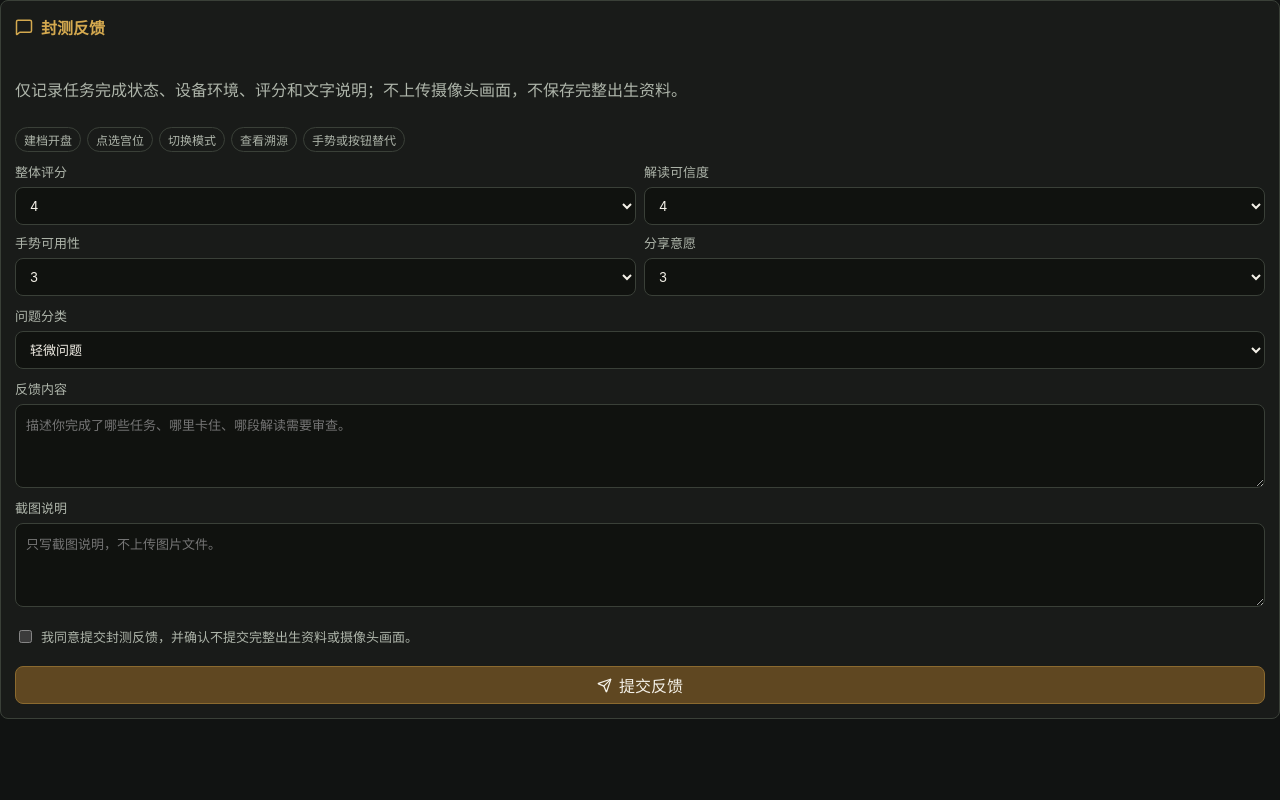
phase 4 feedback UI › renders closed-test consent copy and submits sanitized feedback payload
The width and height of the screenshot is (1280, 800).
expect the heading "封测反馈" is shown: met, box [41, 15, 105, 39]
expect the text "仅记录任务完成状态、设备环境、评分和文字说明；不上传摄像头画面，不保存完整出生资料。" is shown: met, box [15, 80, 687, 100]
Select "5" in the dropdown labelled "整体评分": (326, 206) [15, 187, 636, 225]
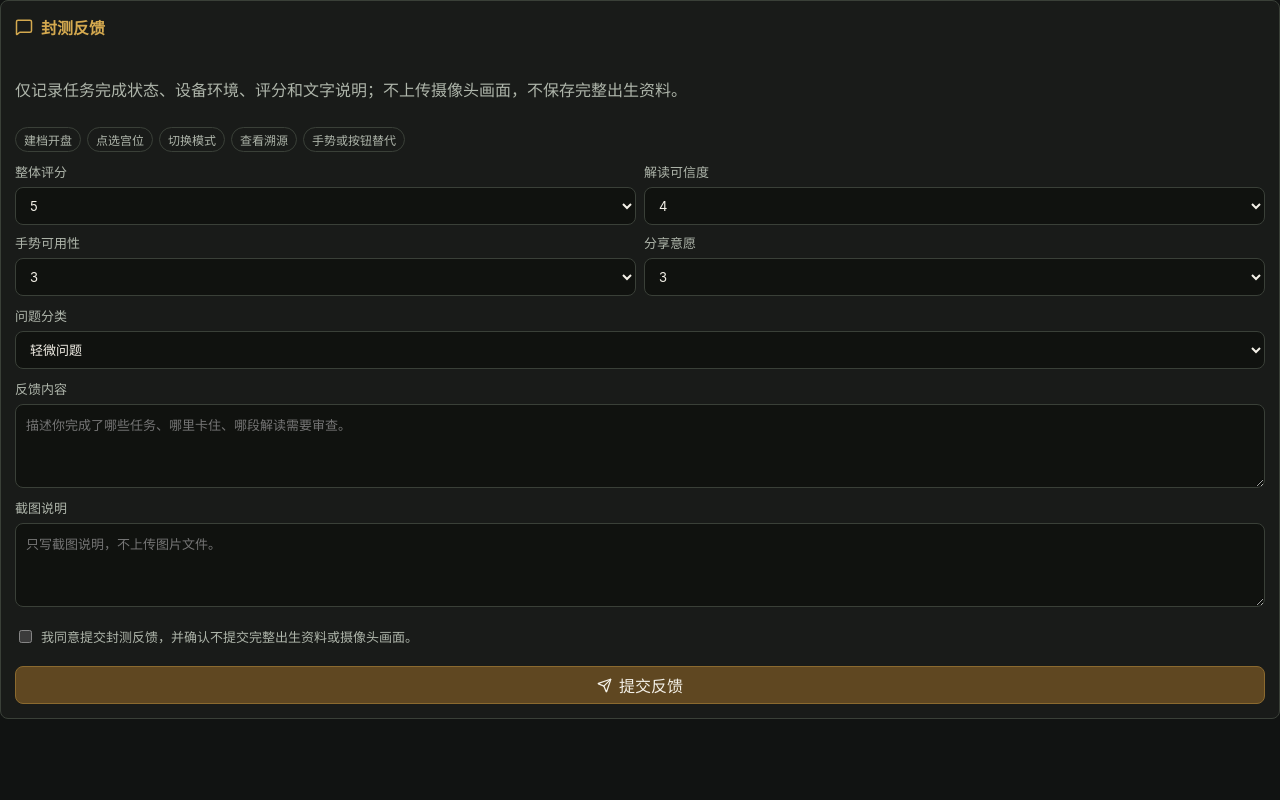
Select "4" in the dropdown labelled "分享意愿": (954, 277) [644, 258, 1265, 296]
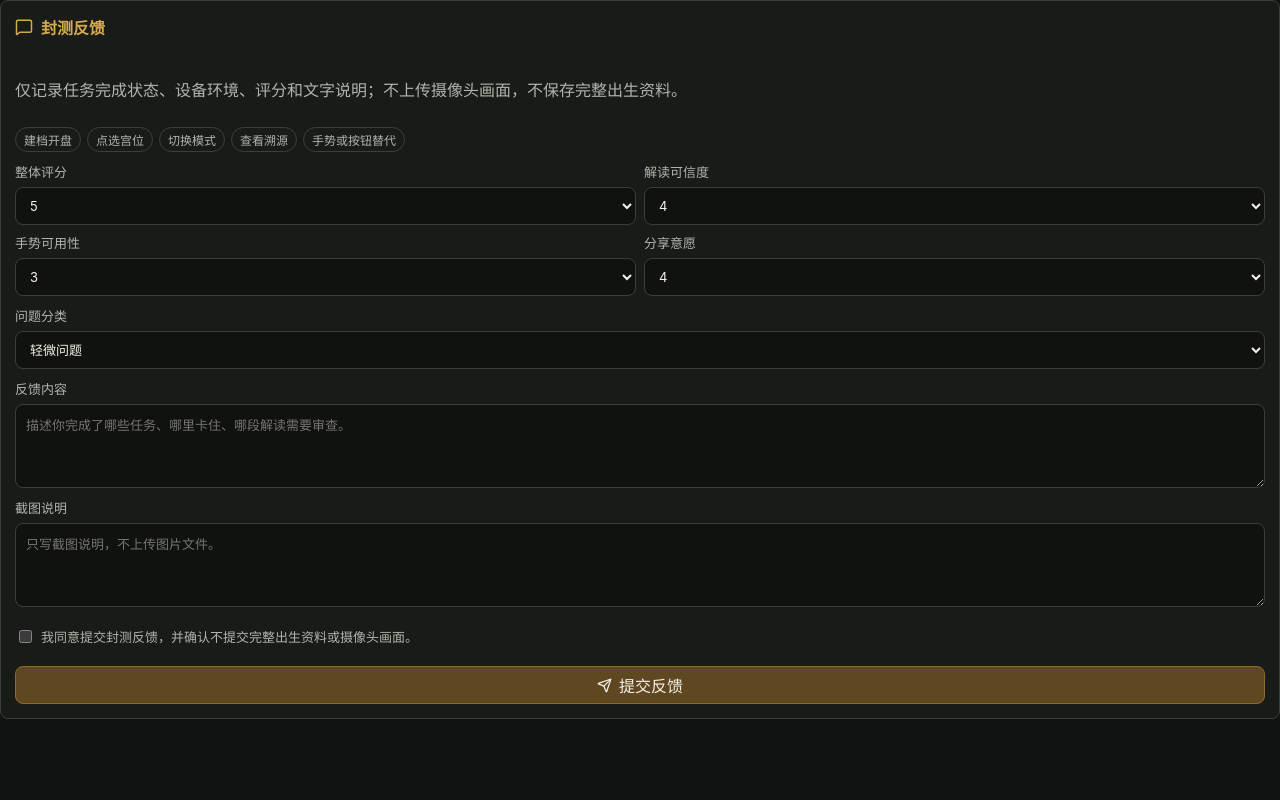
Select "轻微问题" in the dropdown labelled "问题分类": (640, 350) [15, 331, 1265, 369]
In the text box labelled "反馈内容": (640, 446) [15, 404, 1265, 488], type "流程清楚，愿意继续测试。"
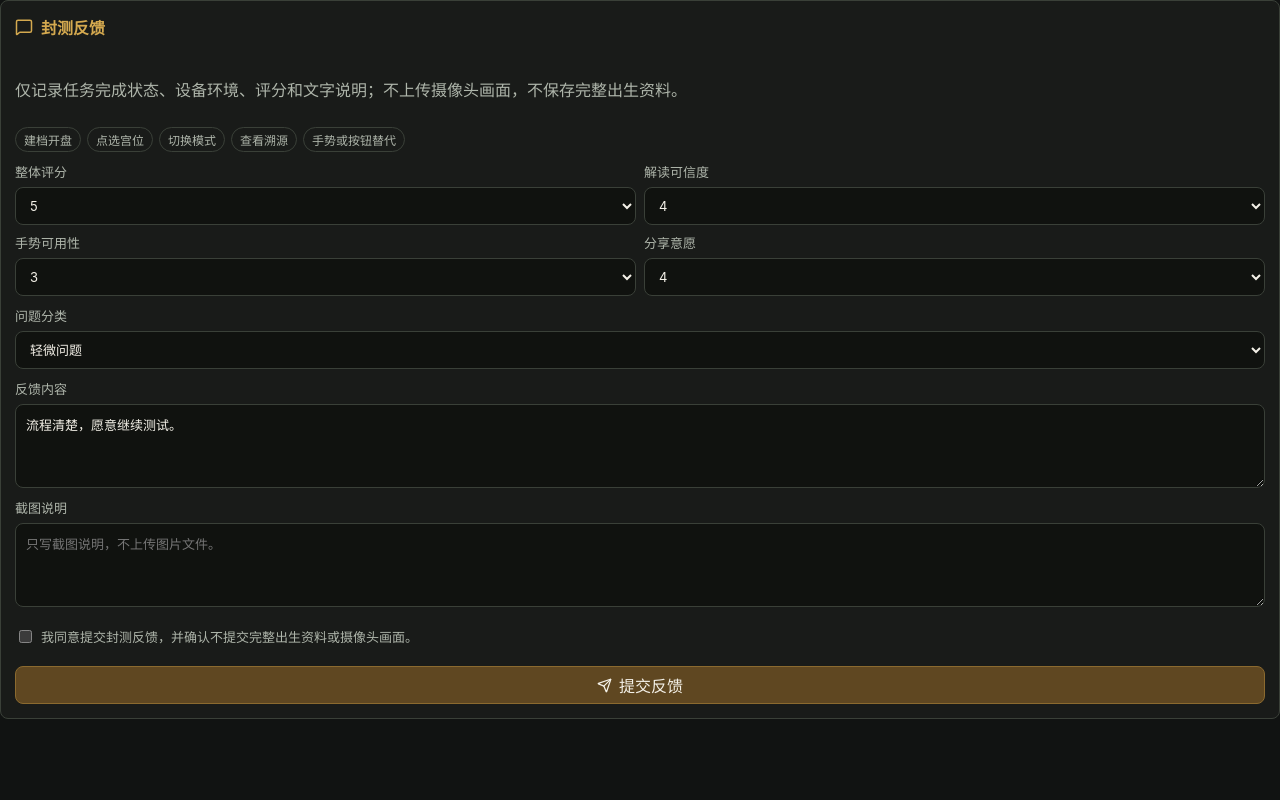
Click the checkbox labelled "我同意提交封测反馈，并确认不提交完整出生资料或摄像头画面。": (26, 636) [19, 630, 32, 643]
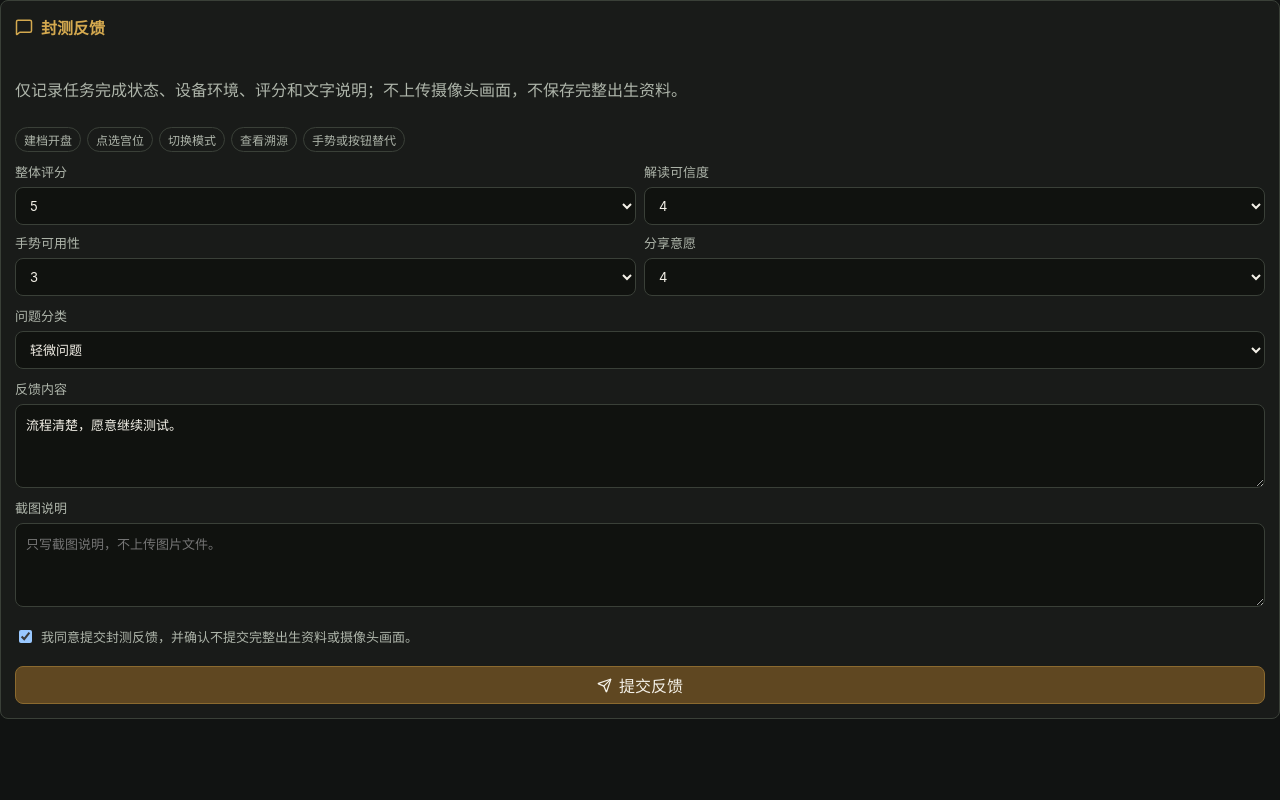
Click the button "提交反馈": (640, 685) [15, 666, 1265, 704]
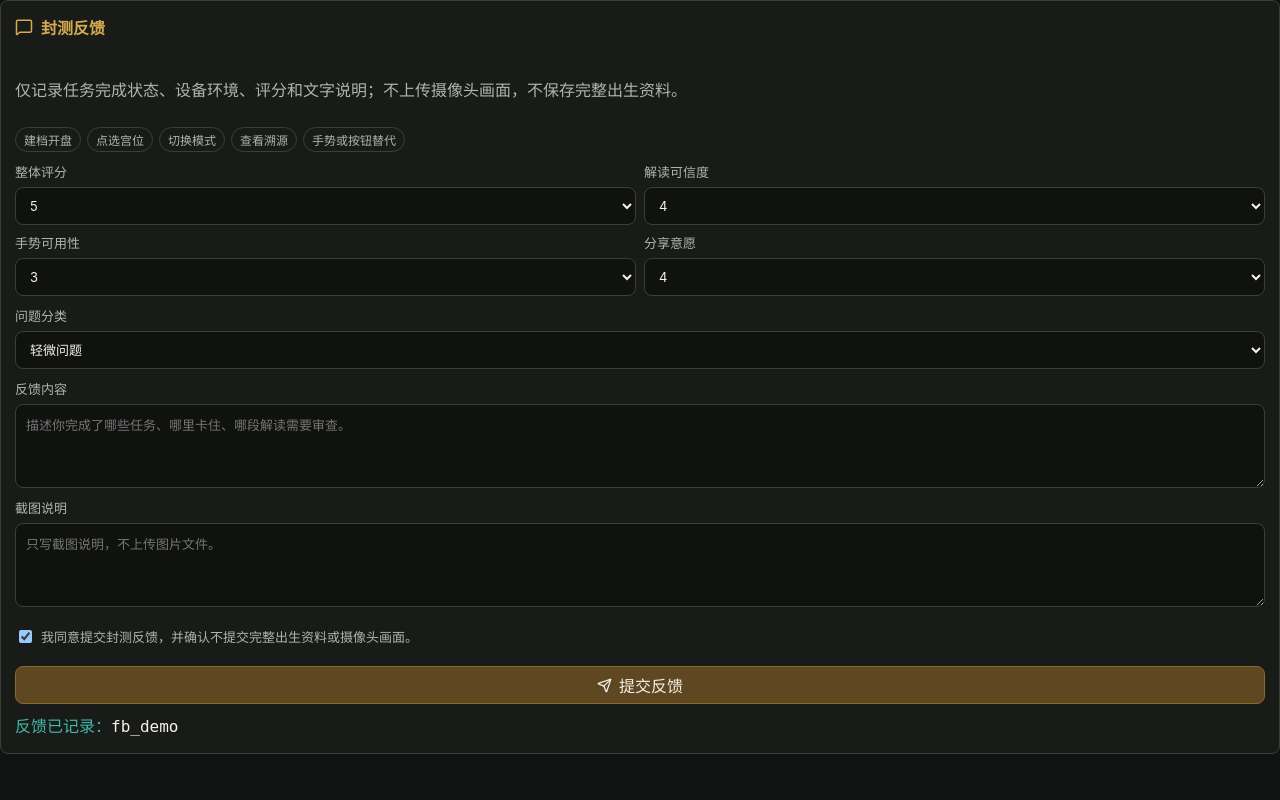
expect the text "反馈已记录：fb_demo" is shown: met, box [15, 716, 178, 736]
